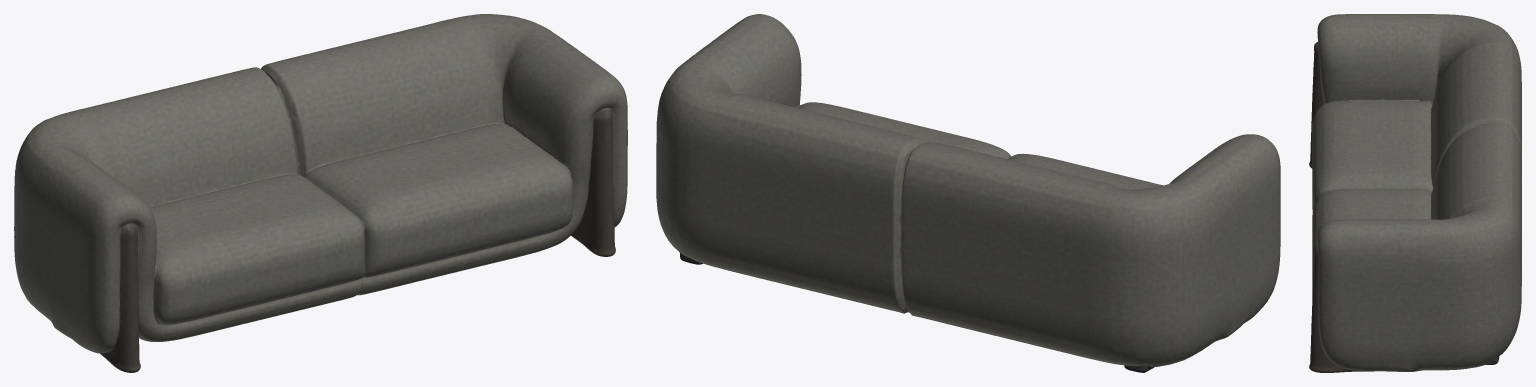
The model's file is sofa.glb.
3 renders of one model, left to right at view 1: azimuth 30°, elevation 25°; view 2: azimuth 150°, elevation 25°; view 3: azimuth 270°, elevation 25°, orthographic. The views are drawn at different scales.
Parts seen in each view (by area): view 1: world; view 2: world; view 3: world.
Boxes of the visible parts, left/top/right/bottom form: world: left=14, top=14, right=627, bottom=372; world: left=656, top=14, right=1280, bottom=372; world: left=1309, top=14, right=1521, bottom=372.
Bounding box in the file's own units: 1 × 0.3064 × 0.3961.
Materials: 1 (1 with a texture image).
